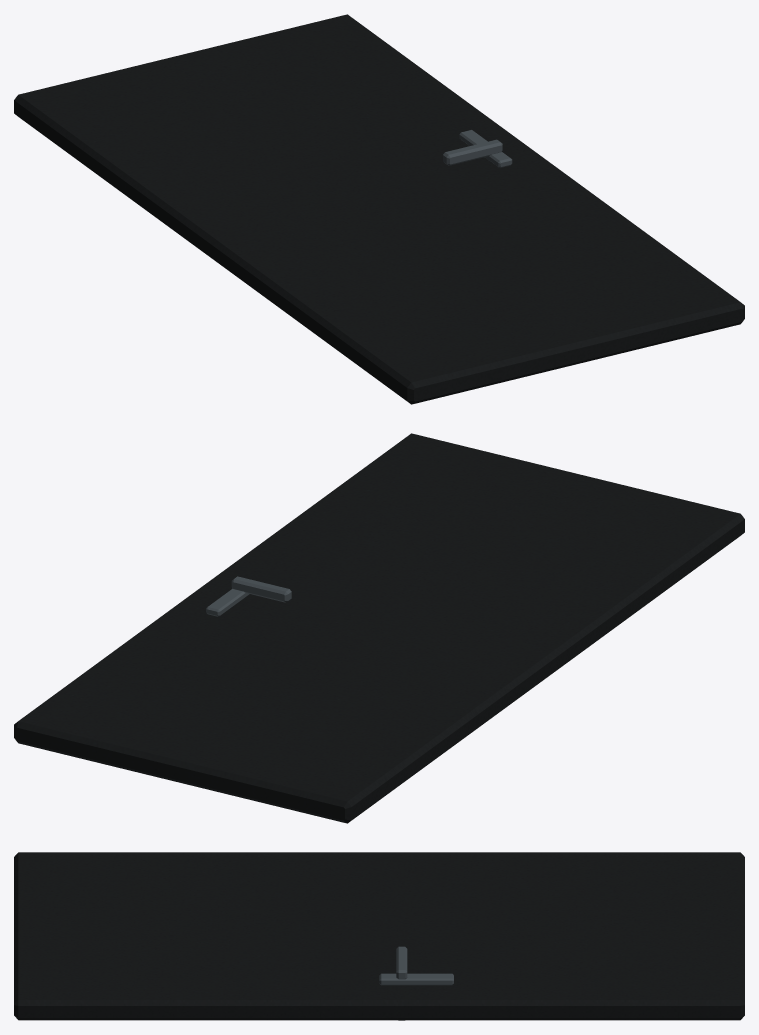
The model's file is door_leaf_11.obj.
The picture shows the model from 3 angles, top to bottom: view 1: azimuth 30°, elevation 25°; view 2: azimuth 150°, elevation 25°; view 3: azimuth 270°, elevation 25°; orthographic projection. The views are drawn at different scales.
Visible parts, largest first — view 1: leaf_charcoal, leaf_metal; view 2: leaf_charcoal, leaf_metal; view 3: leaf_charcoal, leaf_metal.
Part boxes in pixels (x1=…): leaf_charcoal: x1=14, y1=14, x2=744, y2=404; leaf_metal: x1=443, y1=130, x2=512, y2=167; leaf_charcoal: x1=14, y1=433, x2=744, y2=823; leaf_metal: x1=206, y1=576, x2=291, y2=616; leaf_charcoal: x1=14, y1=852, x2=744, y2=1020; leaf_metal: x1=379, y1=946, x2=453, y2=1020.
Size of the model in its own units: 48 by 7.5 by 98.
2 materials, 2 textured.
